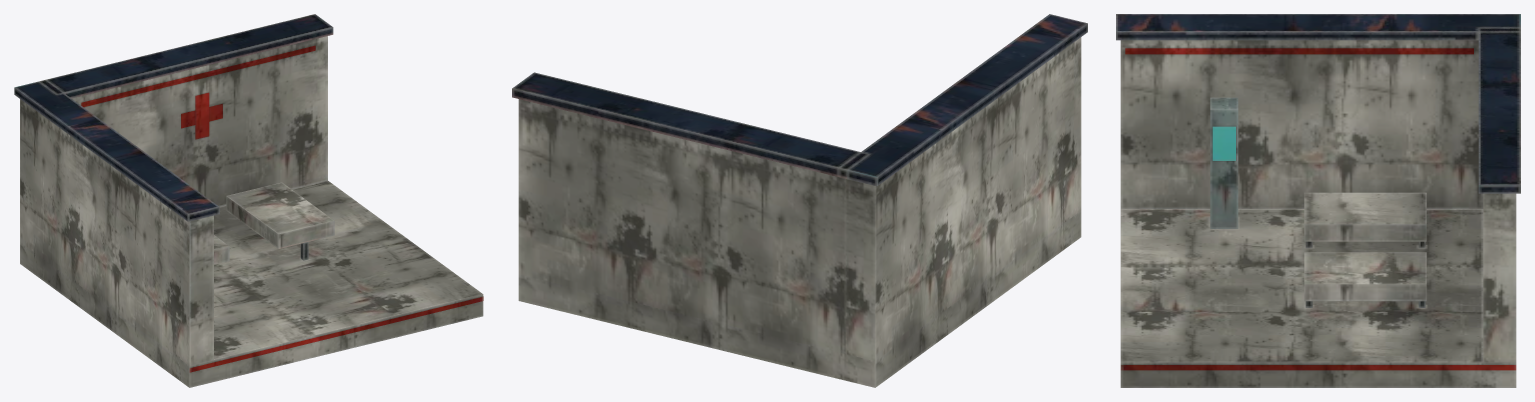
The model's file is hospital.glb.
The picture shows the model from 3 angles, left to right: view 1: azimuth 30°, elevation 25°; view 2: azimuth 150°, elevation 25°; view 3: azimuth 270°, elevation 25°; orthographic projection. The views are drawn at different scales.
Visible parts, largest first — view 1: te_hospital; view 2: te_hospital; view 3: te_hospital.
Part boxes in pixels (x1,y1,x2,y2): te_hospital: (14, 14, 483, 387); te_hospital: (512, 14, 1087, 387); te_hospital: (1116, 14, 1520, 387).
Size of the model in its own units: 0.86 by 0.48 by 0.86.
Materials: 1 (1 with a texture image).
